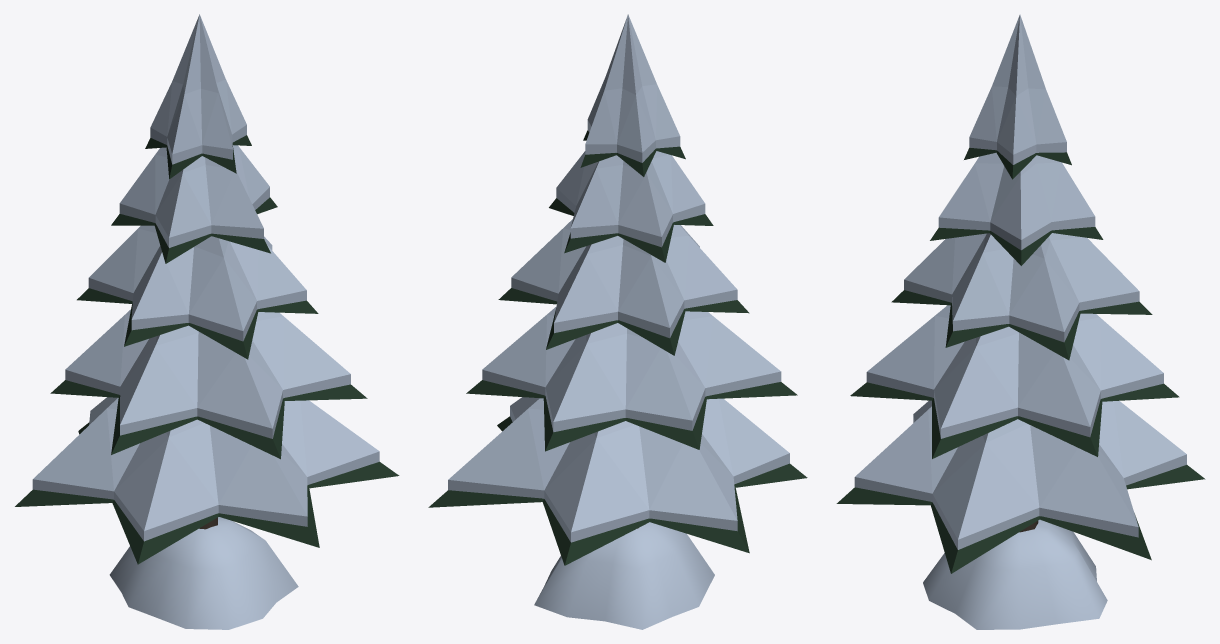
Rendered from pine_young.glb.
The picture shows the model from 3 angles, left to right: view 1: azimuth 30°, elevation 25°; view 2: azimuth 150°, elevation 25°; view 3: azimuth 270°, elevation 25°; orthographic projection.
Parts seen in each view (by area): view 1: Tree; view 2: Tree; view 3: Tree.
Part boxes in pixels (x1,y1,x2,y2): Tree: (15, 14, 399, 629); Tree: (428, 14, 807, 629); Tree: (836, 14, 1205, 629).
Bounding box in the file's own units: 1.62 × 2.78 × 1.61.
